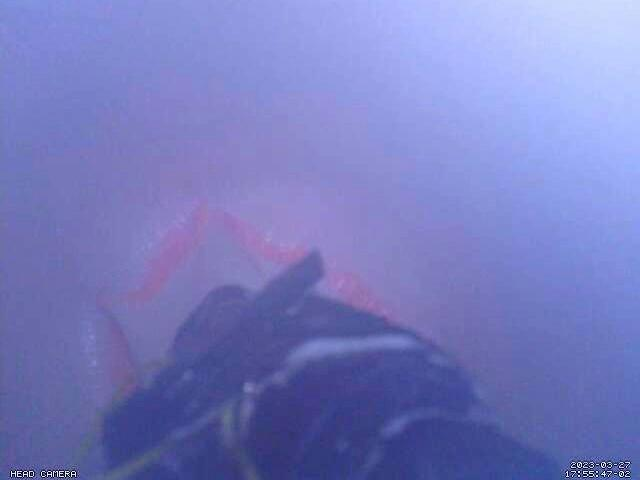head: (95, 198, 399, 401)
